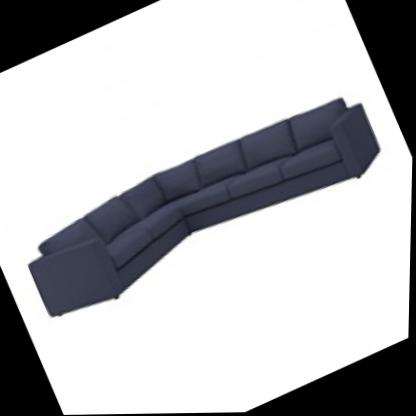Sofa: (0, 55, 406, 348)
